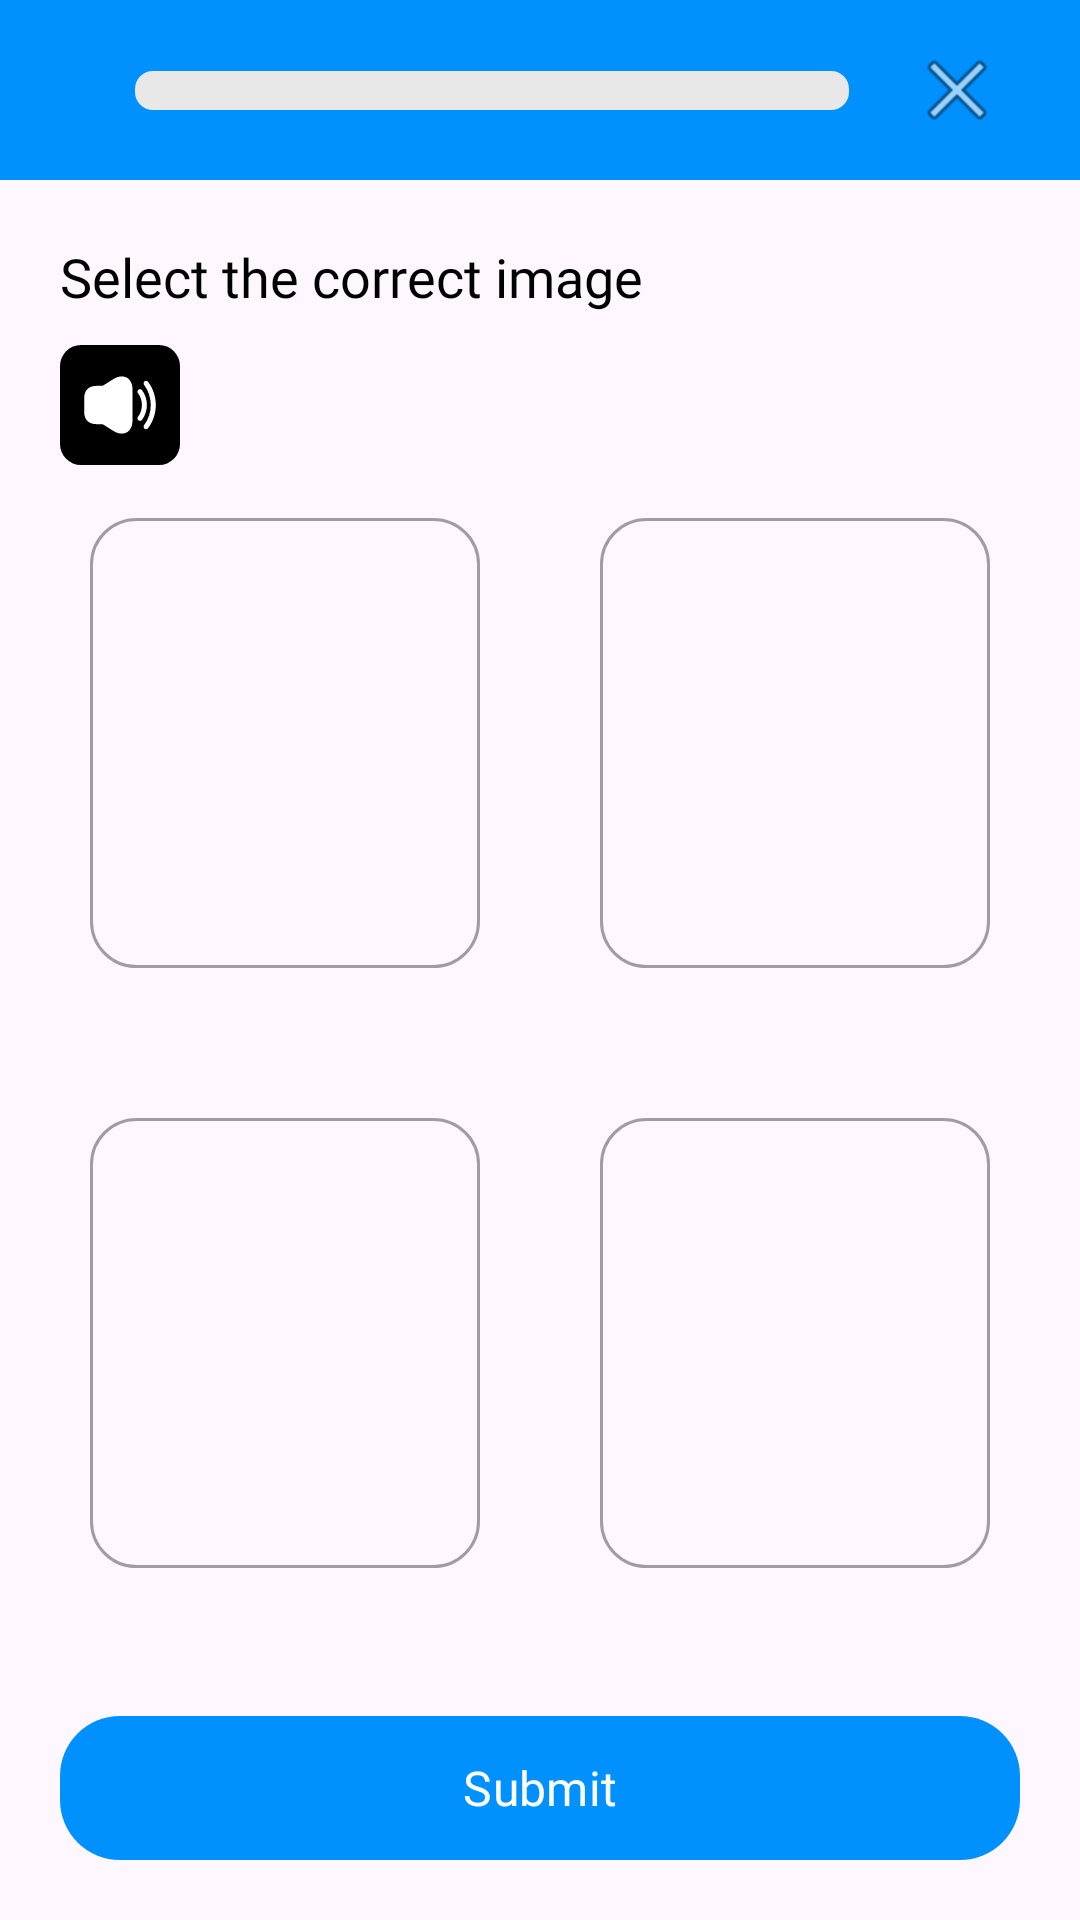

Icons on this 1080*1920 Android screen, each with its box as (x1, y1, x2, y2):
close clear cancel: (927, 60, 987, 120)
volume up: (60, 345, 180, 465)
